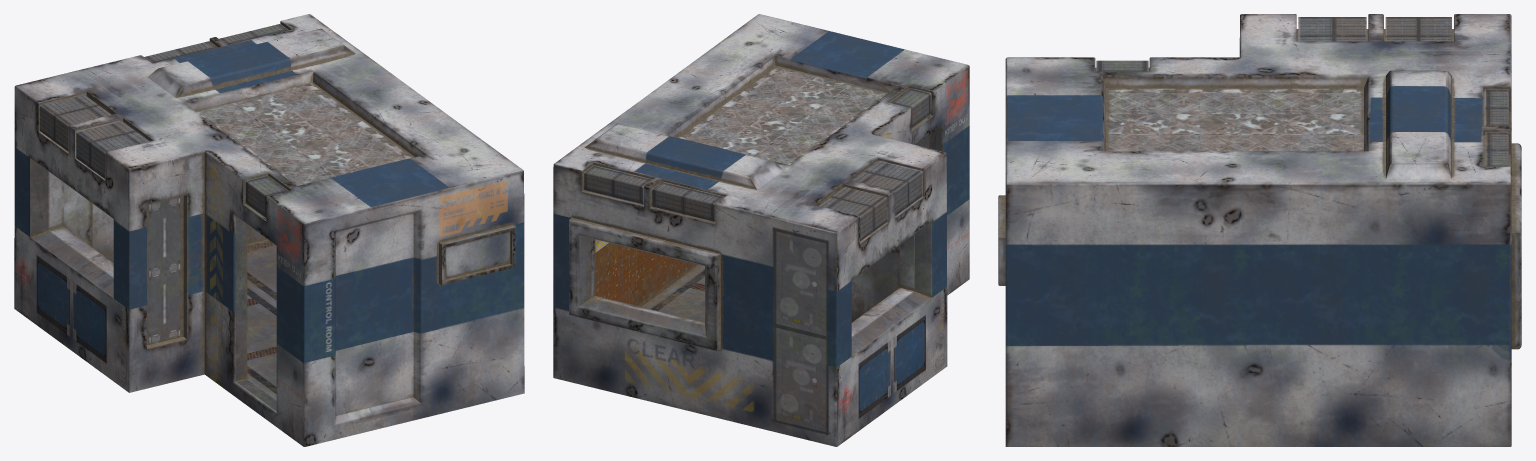
File: SM_Sci_Fi_Habitat_Shop_LP.fbx
3 renders of one model, left to right at view 1: azimuth 30°, elevation 25°; view 2: azimuth 150°, elevation 25°; view 3: azimuth 270°, elevation 25°, orthographic. The views are drawn at different scales.
Parts seen in each view (by area): view 1: SM_Sci_Fi_Habitat_Shop_LP_LOD0; view 2: SM_Sci_Fi_Habitat_Shop_LP_LOD0; view 3: SM_Sci_Fi_Habitat_Shop_LP_LOD0.
Boxes of the visible parts, box(x1,y1,x2,y2) form: SM_Sci_Fi_Habitat_Shop_LP_LOD0: box(14, 14, 524, 446); SM_Sci_Fi_Habitat_Shop_LP_LOD0: box(553, 14, 969, 446); SM_Sci_Fi_Habitat_Shop_LP_LOD0: box(998, 14, 1521, 446).
Bounding box in the file's own units: 431 × 558 × 323.
1 material, 1 textured.
